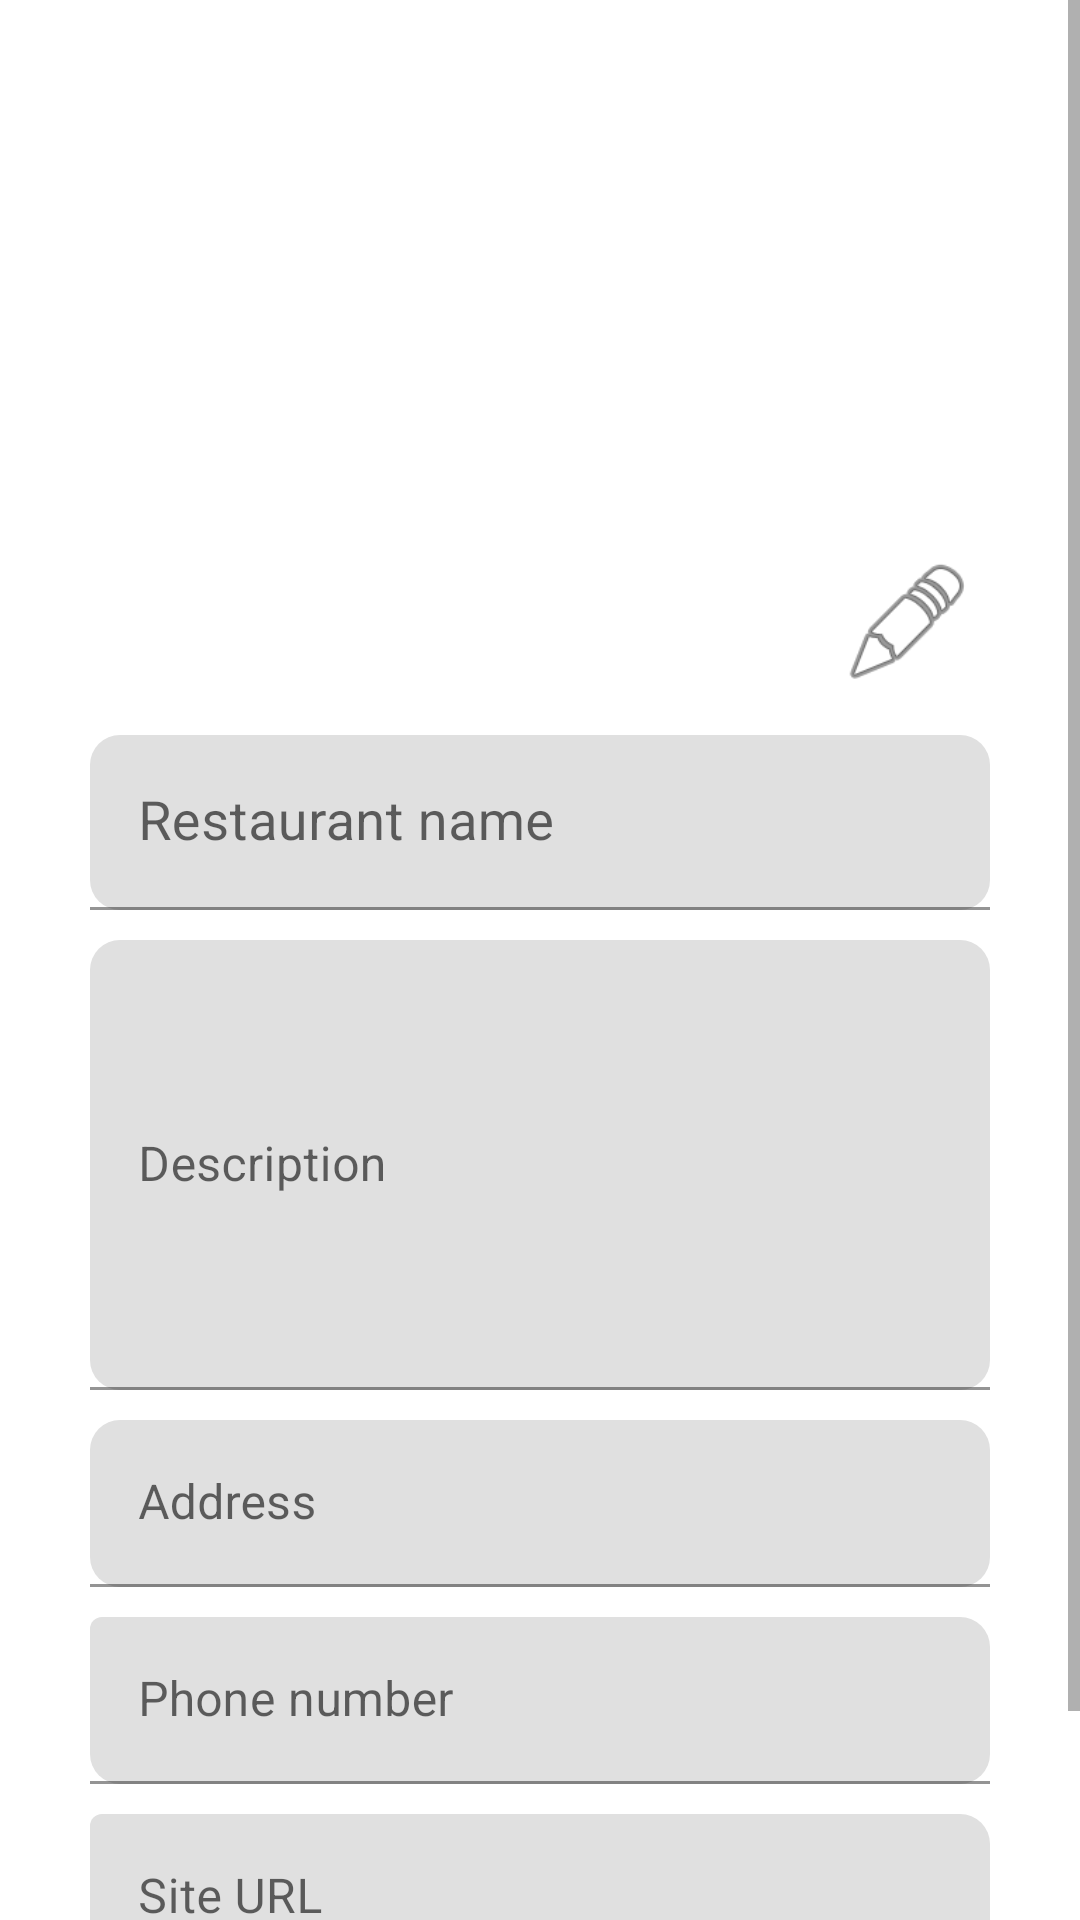

Where to tap for icons on this 1080x1920 app screen, as (x,y):
edit: (907,621)
